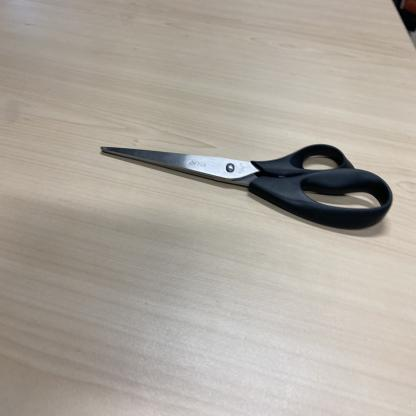scissors: (98, 144, 395, 232)
